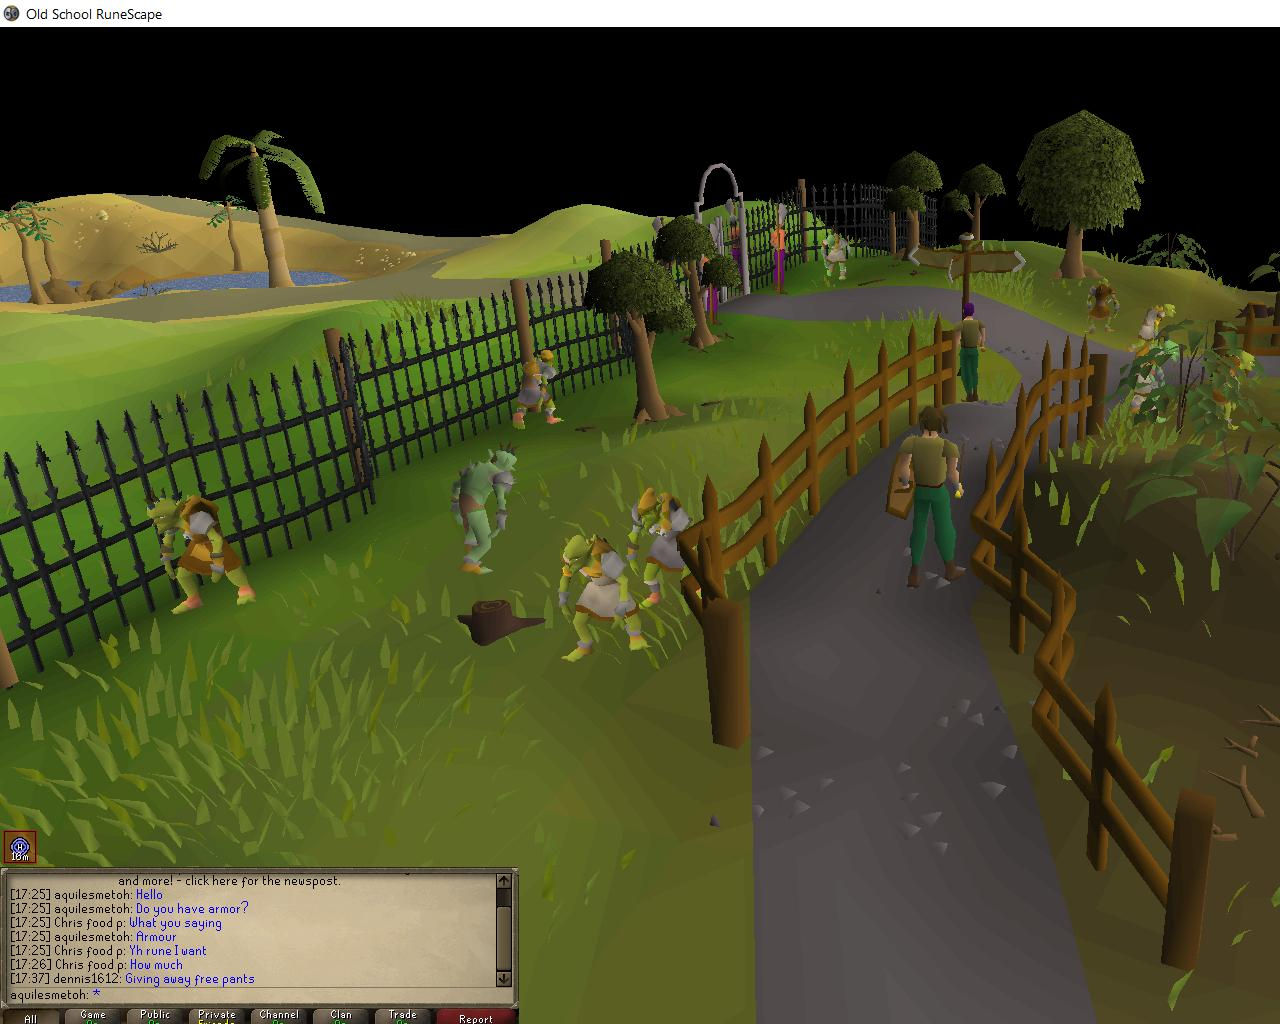Goblin: (139, 487, 261, 619), (555, 529, 653, 666), (625, 483, 719, 613), (447, 441, 521, 577), (1196, 342, 1259, 439), (507, 345, 563, 439), (1119, 354, 1170, 427), (1128, 294, 1180, 358), (1086, 273, 1123, 334), (816, 229, 854, 287)
